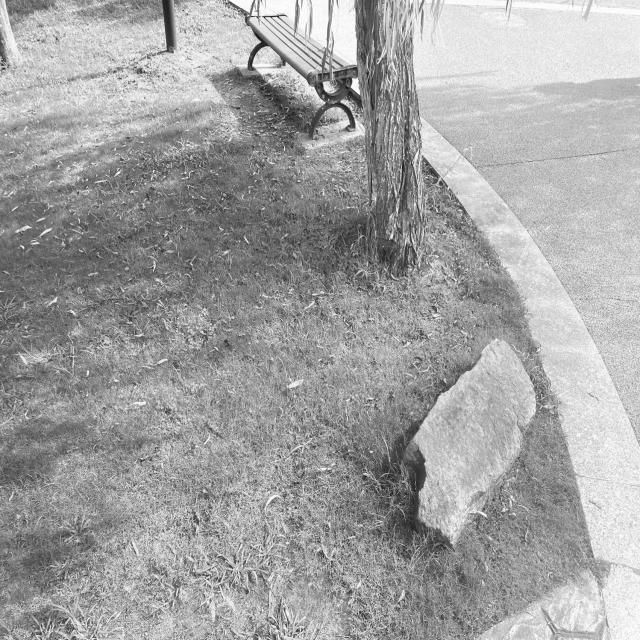Stone: (405, 339, 536, 544)
